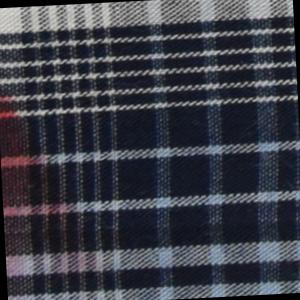Stain: (1, 84, 113, 292)
